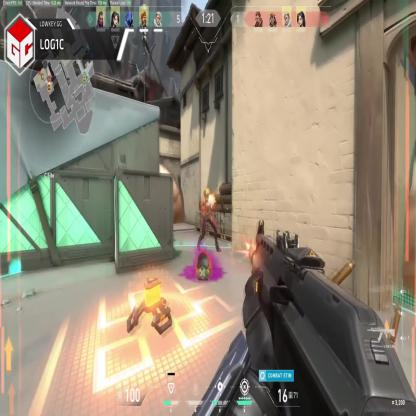enemy: (197, 186, 220, 252)
enemy_head: (204, 188, 210, 200)
